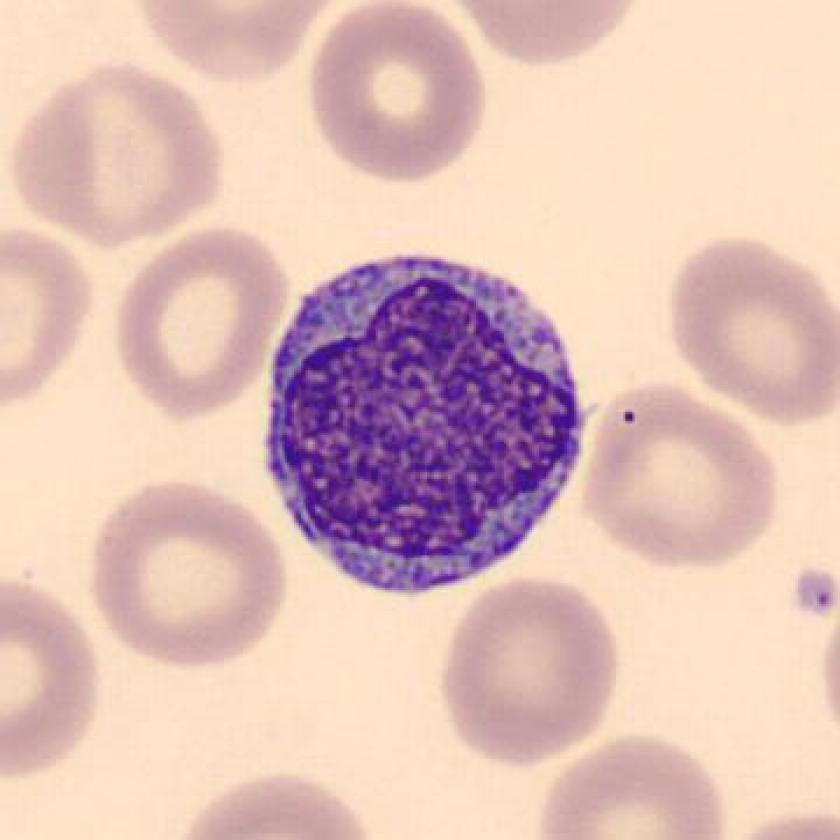monocyte: (246, 233, 605, 622)
